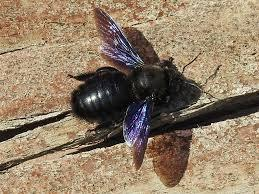Xylocopa: (71, 4, 200, 158)
